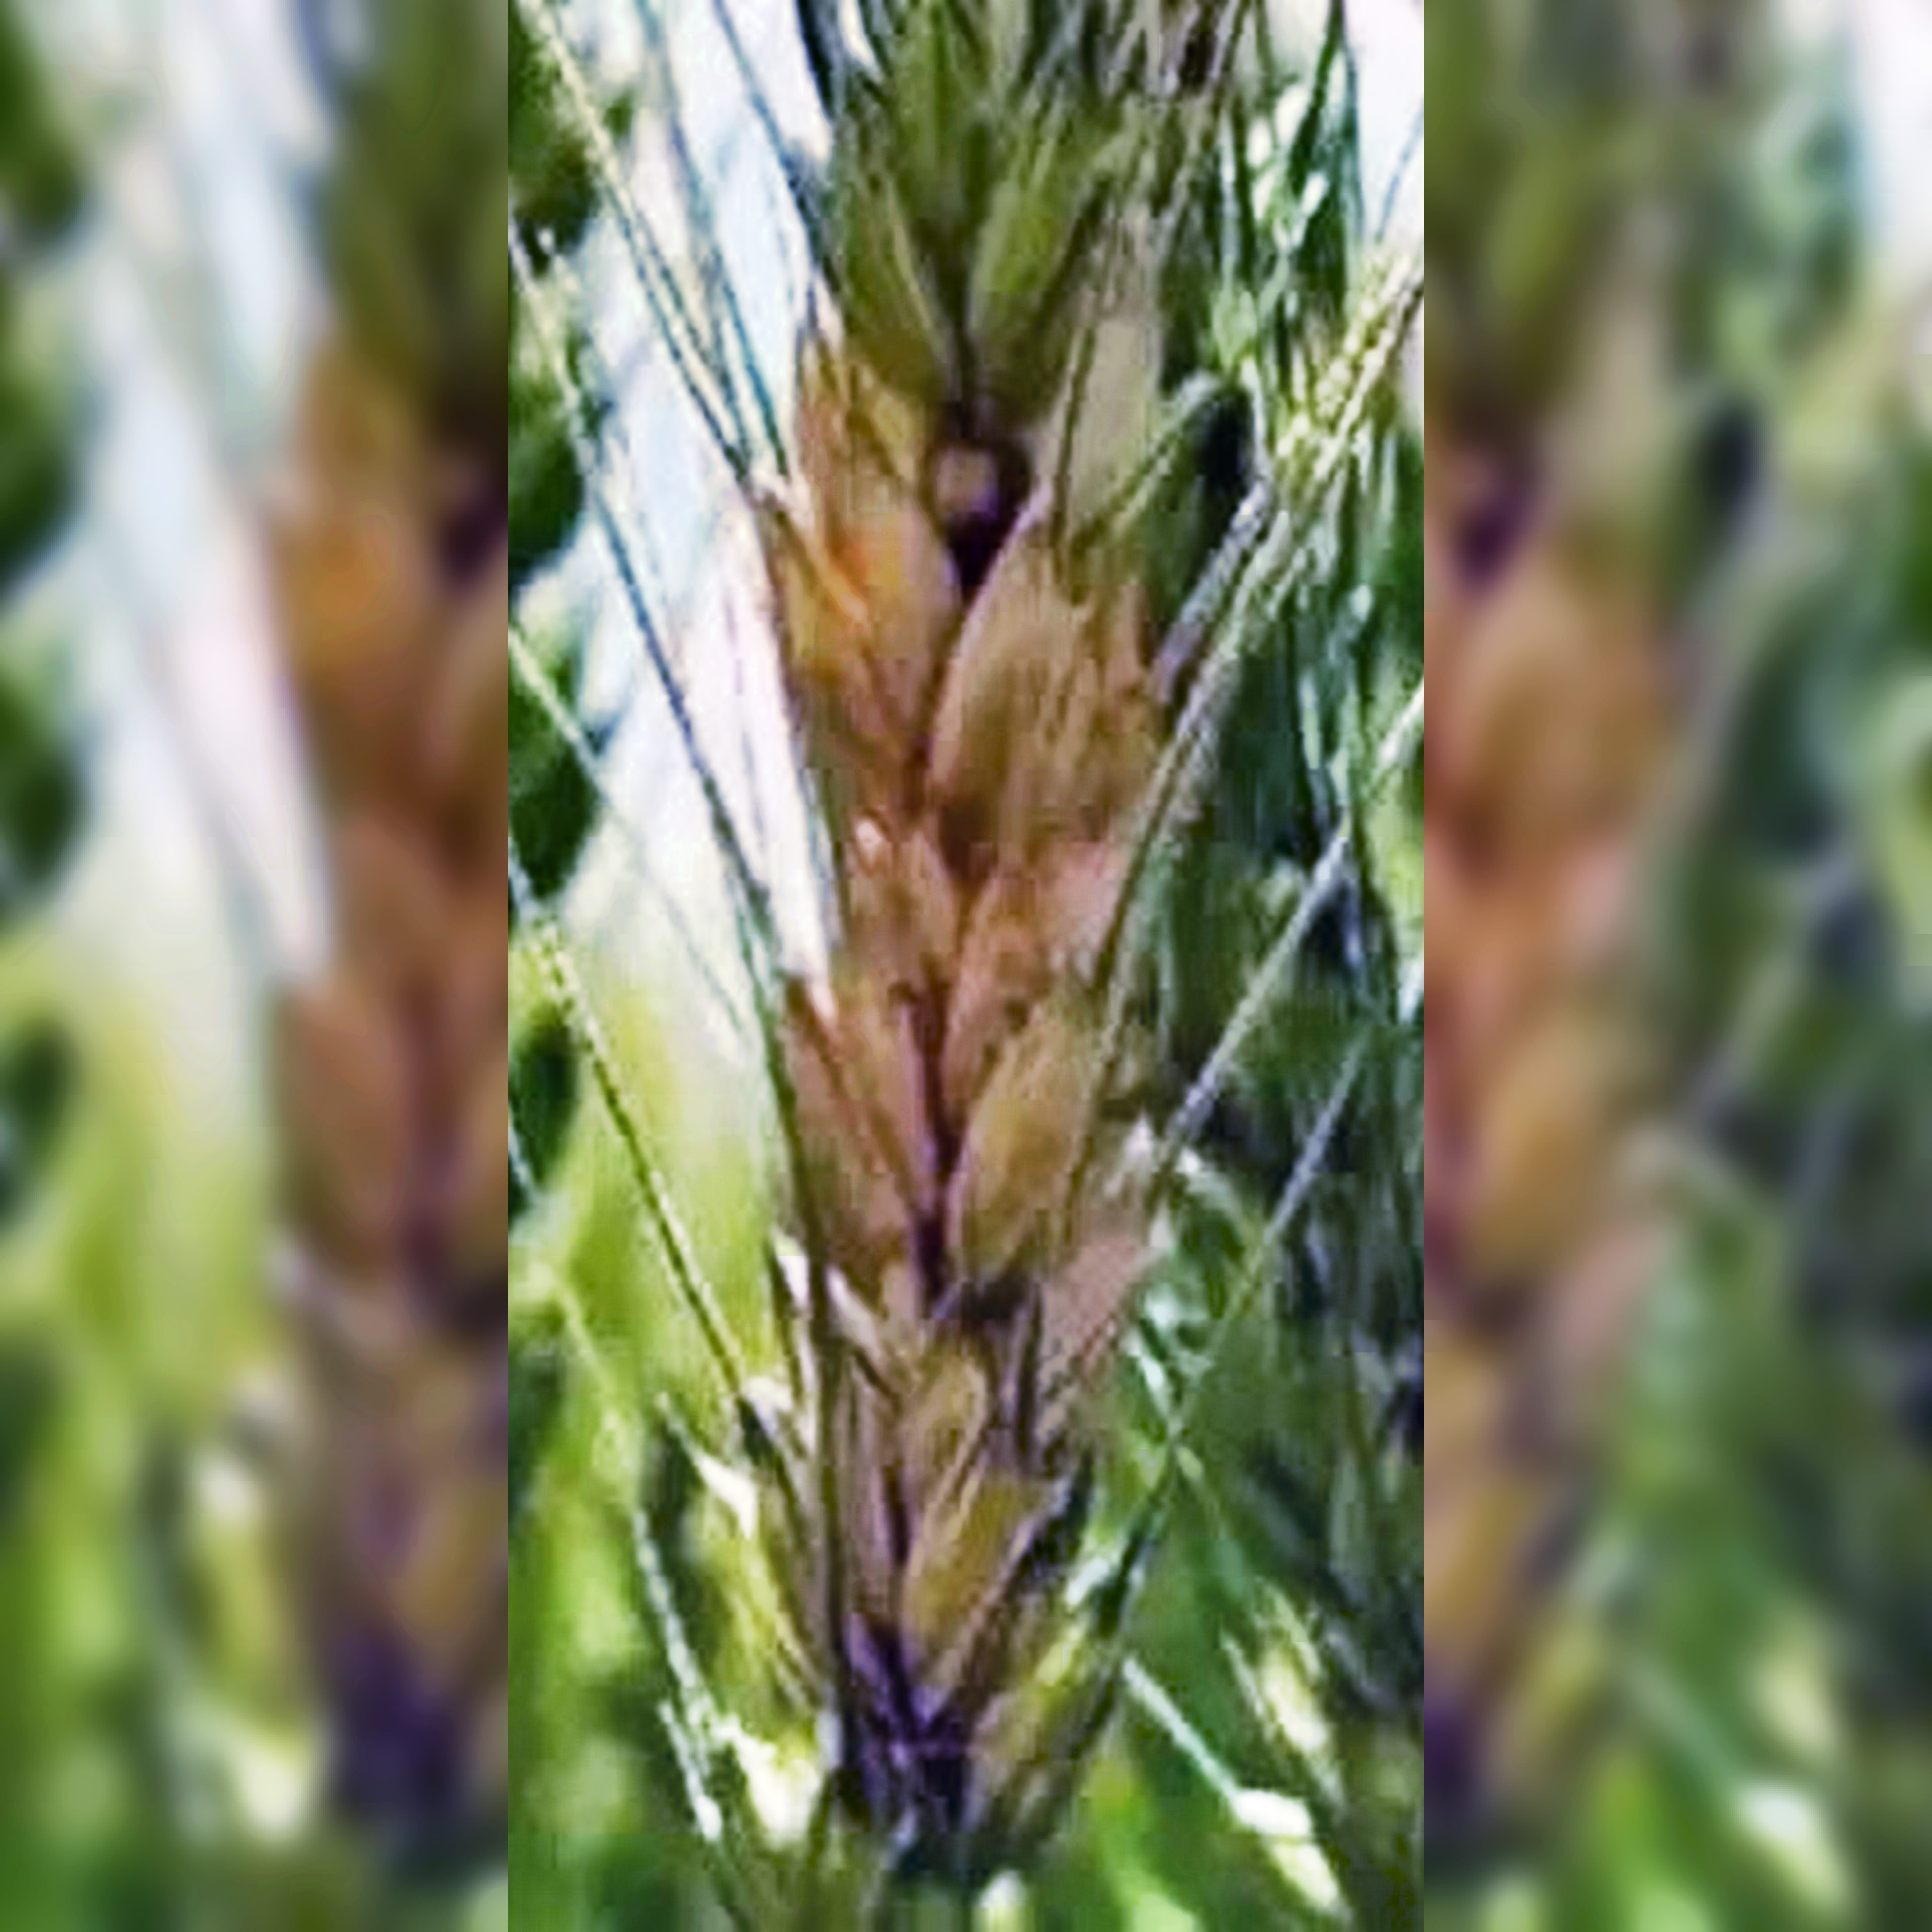Wheat scab: (681, 32, 1189, 1803)
